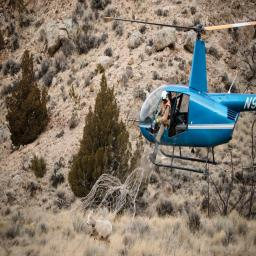helicopter: (104, 18, 256, 174)
